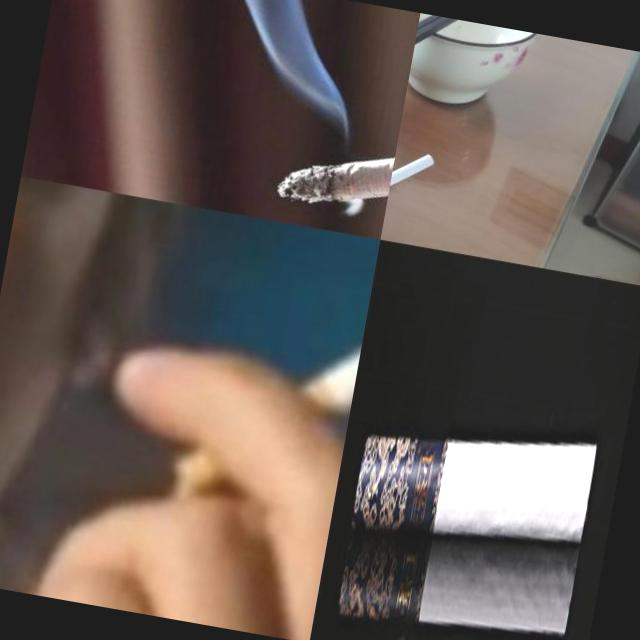smoke: (171, 211, 380, 520), (350, 402, 598, 562), (335, 510, 580, 640), (272, 90, 403, 218), (382, 147, 434, 232)
